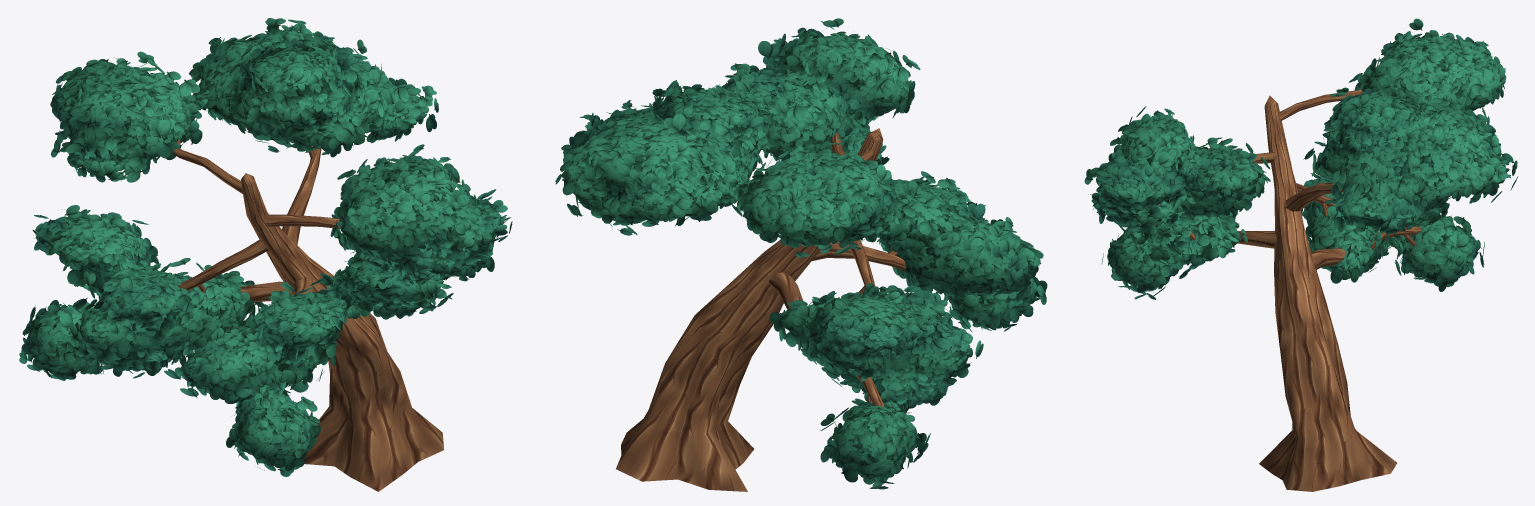
The model's file is jpine_v2.glb.
3 views of the same model, side by side, from view 1: azimuth 30°, elevation 25°; view 2: azimuth 150°, elevation 25°; view 3: azimuth 270°, elevation 25° (orthographic). The views are drawn at different scales.
Visible parts, largest first — view 1: jpine_v2_leaves_LOD0, jpine_v2_volume_LOD0, jpine_v2_trunk_LOD0; view 2: jpine_v2_leaves_LOD0, jpine_v2_volume_LOD0, jpine_v2_trunk_LOD0; view 3: jpine_v2_leaves_LOD0, jpine_v2_trunk_LOD0, jpine_v2_volume_LOD0.
Part boxes in pixels (left/top/right/bottom): jpine_v2_leaves_LOD0: left=19, top=18, right=512, bottom=476; jpine_v2_volume_LOD0: left=25, top=32, right=501, bottom=458; jpine_v2_trunk_LOD0: left=173, top=140, right=444, bottom=491; jpine_v2_leaves_LOD0: left=555, top=18, right=1047, bottom=489; jpine_v2_volume_LOD0: left=572, top=35, right=1038, bottom=476; jpine_v2_trunk_LOD0: left=616, top=128, right=906, bottom=491; jpine_v2_leaves_LOD0: left=1084, top=18, right=1518, bottom=299; jpine_v2_trunk_LOD0: left=1157, top=89, right=1421, bottom=491; jpine_v2_volume_LOD0: left=1097, top=38, right=1504, bottom=288.
Size of what is drawn, in the model's own units: 6.78 by 6.97 by 7.53.
Materials: 3 (3 with a texture image).
